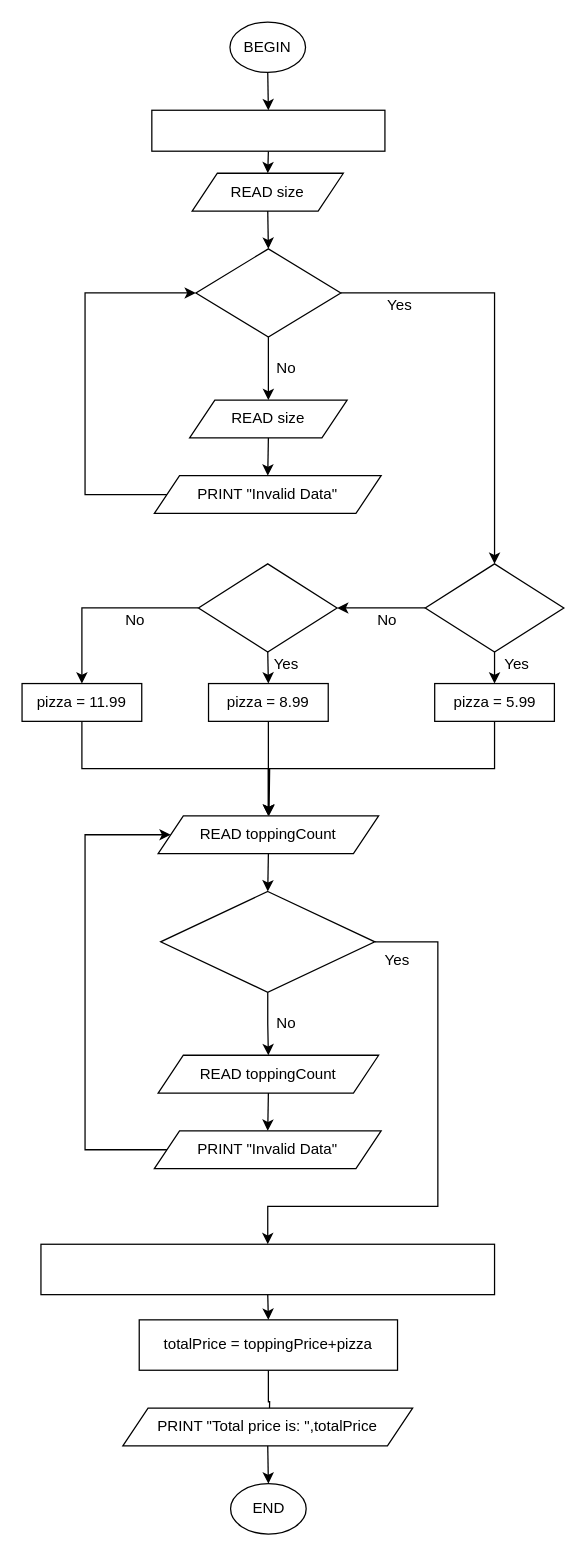
This 586x1556 diagram has some shape labels left out. The centre of each missing label's shape, as x and y in pixels:
0<= toppingCount <=5: pixel 267 941
INITIALISE CONSTANTS: pixel 268 130
size = "medium": pixel 267 607
size = "small": pixel 494 607
size in dataList: pixel 268 292
toppingPrice = toppingCount * 1.20 * dataList[toppingCount+3]: pixel 267 1269
